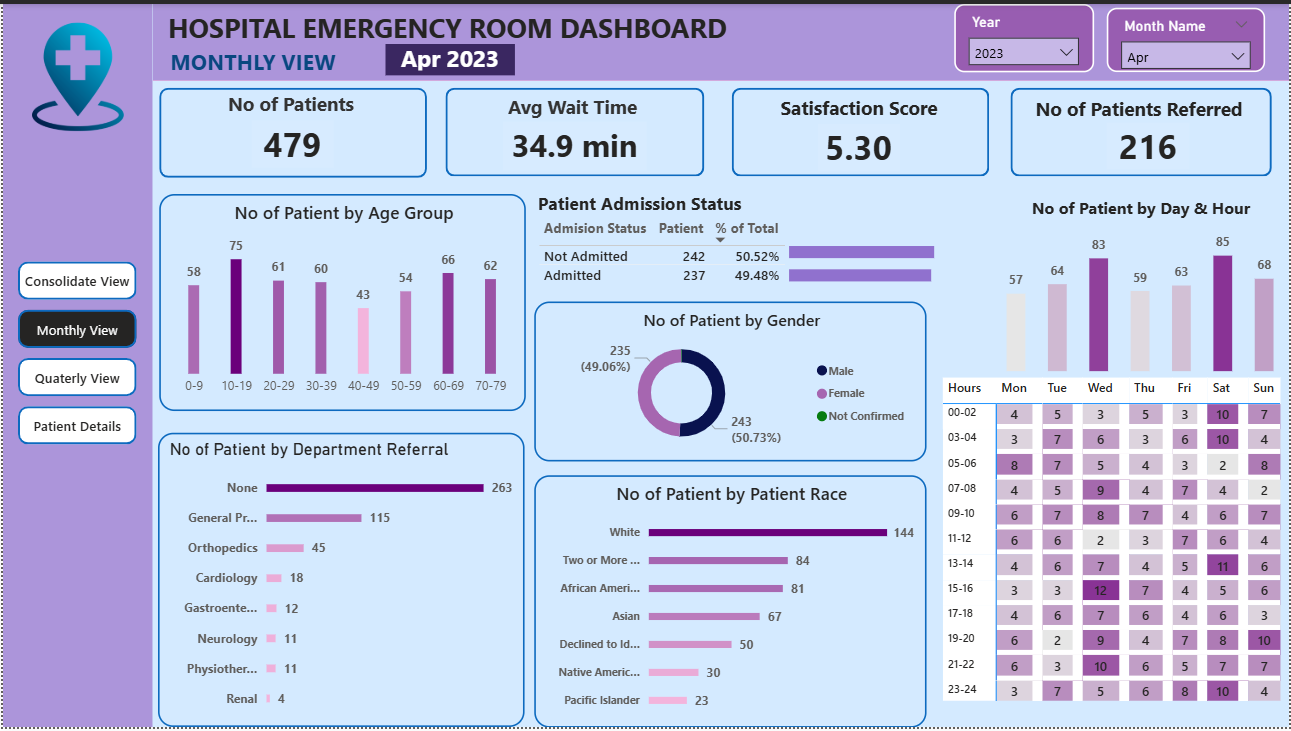

This screenshot's page, from the dashboard's own definition file:
{"tool":"powerbi","page":{"name":"Monthly View","canvas":[1280,720],"ordinal":1},"visuals":[{"type":"shape","box":[155.3,83.3,266.4,89.6],"z":0},{"type":"shape","box":[0,0,148.8,720],"z":1000},{"type":"shape","box":[149,0,1131.3,75.8],"z":2000},{"type":"textbox","box":[159.1,0,588.4,46.7],"z":3000},{"type":"textbox","box":[161.6,37.9,178,41.7],"z":4000},{"type":"card","fields":{"Values":["Hospital ER_Data.No of Patient"]},"box":[247.5,115.3,81.2,47.5],"z":5000},{"type":"slicer","fields":{"Values":["Data Table 1.Year"]},"box":[946.9,0,138.9,68.2],"z":6000},{"type":"slicer","fields":{"Values":["Data Table 1.Month Name"]},"box":[1098.4,3.8,157.8,64.4],"z":7000},{"type":"textbox","box":[218.7,81.5,137.5,43.8],"z":8000},{"type":"card","fields":{"Values":["Min(Data Table 1.Month & Year)"]},"box":[380,40.4,128.8,31.6],"z":9000},{"type":"shape","box":[440.6,83.3,257.6,88.4],"z":10000},{"type":"card","fields":{"Values":["Hospital ER_Data.Avg Wait Time"]},"box":[497.1,117.1,142.9,48.6],"z":11000},{"type":"textbox","box":[497.1,84.3,152.9,40],"z":12000},{"type":"shape","box":[1002.5,83.3,260.1,88.4],"z":13000},{"type":"card","fields":{"Values":["Hospital ER_Data.No of Patient Reffered"]},"box":[1098.4,118.7,82.1,46.7],"z":14000},{"type":"textbox","box":[1022.7,87.1,217.2,42.9],"z":15000},{"type":"shape","box":[724.7,83.3,256.3,88.4],"z":16000},{"type":"card","fields":{"Values":["Hospital ER_Data.Satisfaction Score"]},"box":[811.2,119,81.2,47.5],"z":17000},{"type":"textbox","box":[768.7,85.3,171.2,43.8],"z":18000},{"type":"columnChart","fields":{"Category":["Hospital ER_Data.\"Age Group"],"Y":["Hospital ER_Data.No of Patient"]},"box":[155.3,189.4,364.9,215.9],"z":19000},{"type":"clusteredBarChart","fields":{"Category":["Hospital ER_Data.Department Referral"],"Y":["Hospital ER_Data.No of Patient"]},"box":[154,426.8,364.9,292.9],"z":20000},{"type":"group","id":"g1","title":"Group 1","box":[527.8,186.9,439.4,108.6],"z":21000},{"type":"donutChart","title":"No of Patient by Gender","fields":{"Y":["Hospital ER_Data.No of Patient"],"Category":["Hospital ER_Data.Patient Gender"]},"box":[529,295.4,390.1,159.1],"z":22000},{"type":"tableEx","title":"Patient Admission Status","fields":{"Values":["Hospital ER_Data.Admision Status","Hospital ER_Data.No of Patient1","Hospital ER_Data.No of Patient"]},"box":[527.8,186.9,419.7,104.8],"z":23000,"group":"g1"},{"type":"clusteredBarChart","fields":{"Y":["Hospital ER_Data.No of Patient"],"Category":["Hospital ER_Data.Patient Race"]},"box":[528.6,468.6,390,251.4],"z":23000},{"type":"barChart","fields":{"Category":["Hospital ER_Data.Admision Status"],"Y":["Hospital ER_Data.No of Patient"]},"box":[778.2,217.2,189,78.3],"z":24000,"group":"g1"},{"type":"pivotTable","fields":{"Rows":["Hospital ER_Data.Time Interval"],"Columns":["Data Table 1.Day"],"Values":["Hospital ER_Data.No of Patient"]},"box":[930,367.1,350,337.1],"z":24000},{"type":"columnChart","title":"No of Patient by Day & Hour","fields":{"Category":["Data Table 1.Day Name"],"Y":["Hospital ER_Data.No of Patient"]},"box":[994.3,191.4,277.1,180],"z":25000},{"type":"image","box":[15.2,13.9,118.7,117.4],"z":26000},{"type":"pageNavigator","box":[14.9,256.3,118.2,184.1],"z":27000}]}

Visuals, with their boxes in screenshot pixels (x1, y1, x2, y2), scaled from the page's 1280x720 canvas onto the 1291x731 screenshot:
shape: [left=157, top=85, right=425, bottom=176]
shape: [left=0, top=0, right=150, bottom=730]
shape: [left=150, top=0, right=1290, bottom=77]
textbox: [left=160, top=0, right=754, bottom=47]
textbox: [left=163, top=38, right=343, bottom=81]
card - Hospital ER_Data.No of Patient: [left=250, top=117, right=332, bottom=165]
slicer - Data Table 1.Year: [left=955, top=0, right=1095, bottom=69]
slicer - Data Table 1.Month Name: [left=1108, top=4, right=1267, bottom=69]
textbox: [left=221, top=83, right=359, bottom=127]
card - Min(Data Table 1.Month & Year): [left=383, top=41, right=513, bottom=73]
shape: [left=444, top=85, right=704, bottom=174]
card - Hospital ER_Data.Avg Wait Time: [left=501, top=119, right=646, bottom=168]
textbox: [left=501, top=86, right=656, bottom=126]
shape: [left=1011, top=85, right=1273, bottom=174]
card - Hospital ER_Data.No of Patient Reffered: [left=1108, top=121, right=1191, bottom=168]
textbox: [left=1031, top=88, right=1251, bottom=132]
shape: [left=731, top=85, right=989, bottom=174]
card - Hospital ER_Data.Satisfaction Score: [left=818, top=121, right=900, bottom=169]
textbox: [left=775, top=87, right=948, bottom=131]
columnChart - Hospital ER_Data."Age Group x Hospital ER_Data.No of Patient: [left=157, top=192, right=525, bottom=411]
clusteredBarChart - Hospital ER_Data.Department Referral x Hospital ER_Data.No of Patient: [left=155, top=433, right=523, bottom=730]
"Group 1" group: [left=532, top=190, right=976, bottom=300]
"No of Patient by Gender" donutChart: [left=534, top=300, right=927, bottom=461]
"Patient Admission Status" tableEx: [left=532, top=190, right=956, bottom=296]
clusteredBarChart - Hospital ER_Data.No of Patient x Hospital ER_Data.Patient Race: [left=533, top=476, right=926, bottom=730]
barChart - Hospital ER_Data.Admision Status x Hospital ER_Data.No of Patient: [left=785, top=221, right=976, bottom=300]
pivotTable - Hospital ER_Data.Time Interval x Data Table 1.Day: [left=938, top=373, right=1290, bottom=715]
"No of Patient by Day & Hour" columnChart: [left=1003, top=194, right=1282, bottom=377]
image: [left=15, top=14, right=135, bottom=133]
pageNavigator: [left=15, top=260, right=134, bottom=447]
